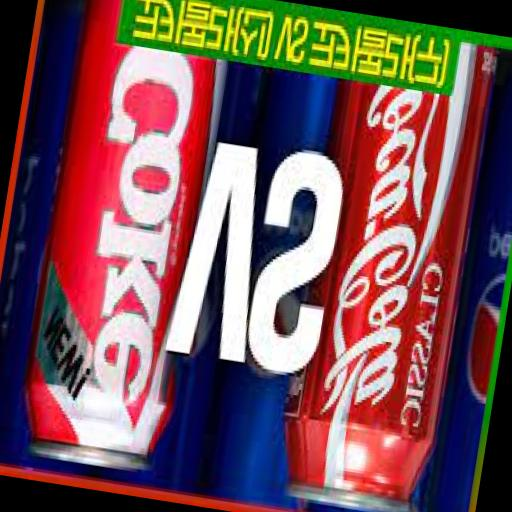Coca: (266, 11, 505, 512)
